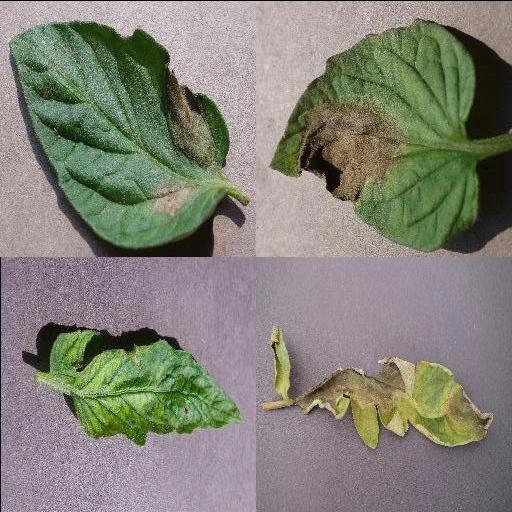Late Blight: (7, 20, 231, 246), (268, 16, 478, 252), (293, 355, 495, 449), (265, 325, 293, 395)
Mosaic Virus: (45, 326, 245, 447)
